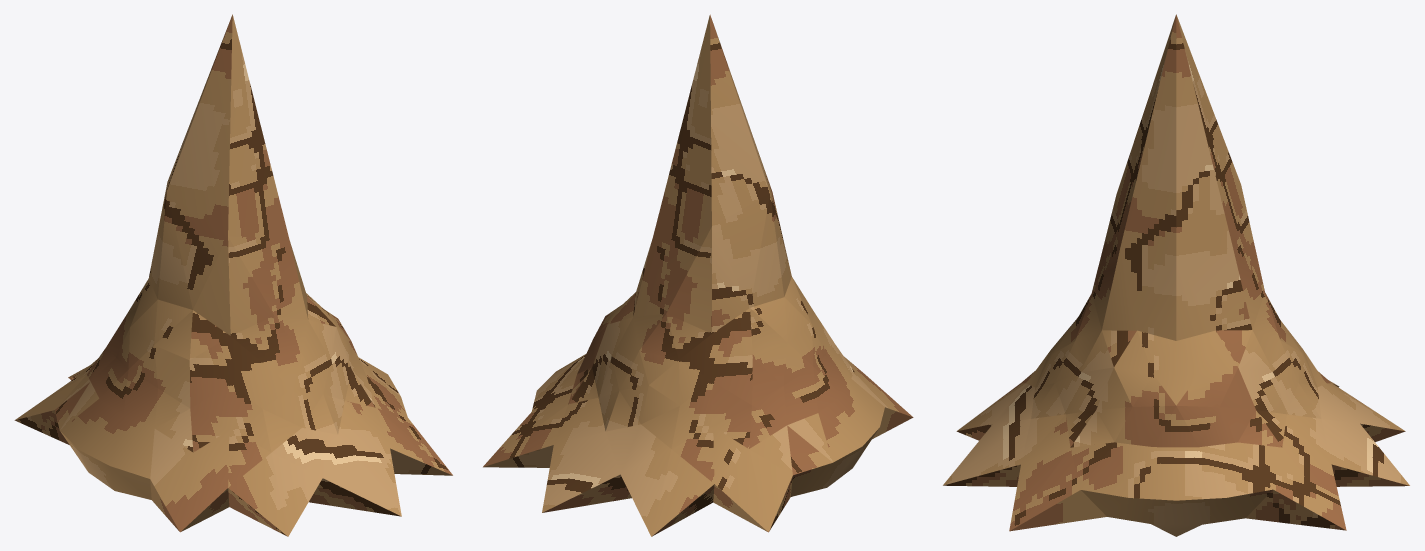
File: stalagmite-300-14.glb
The picture shows the model from 3 angles, left to right: view 1: azimuth 30°, elevation 25°; view 2: azimuth 150°, elevation 25°; view 3: azimuth 270°, elevation 25°; orthographic projection. The views are drawn at different scales.
Size of the model in its own units: 0.6719 by 0.9487 by 0.8581.
Materials: 1 (1 with a texture image).
